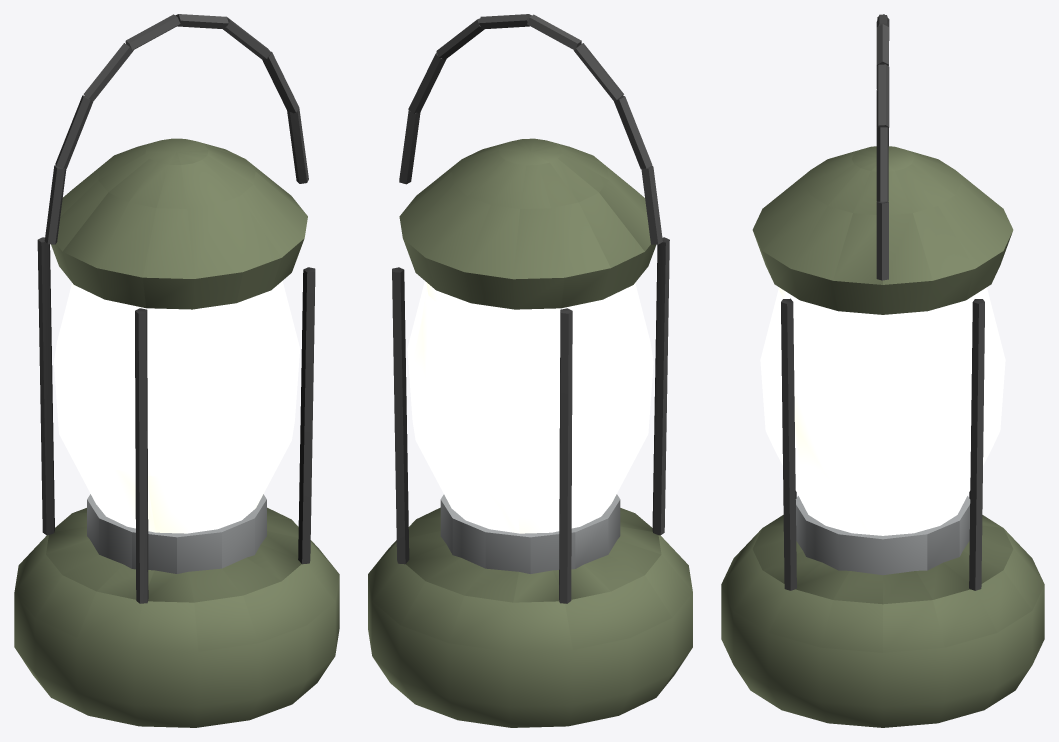
The model's file is lantern.glb.
3 renders of one model, left to right at view 1: azimuth 30°, elevation 25°; view 2: azimuth 150°, elevation 25°; view 3: azimuth 270°, elevation 25°, orthographic.
Visible parts, largest first — view 1: static; view 2: static; view 3: static.
Part boxes in pixels (x1=…): static: x1=14, y1=14, x2=339, y2=727; static: x1=368, y1=14, x2=692, y2=727; static: x1=721, y1=14, x2=1044, y2=727.
Size of the model in its own units: 0.124 by 0.2724 by 0.124.
